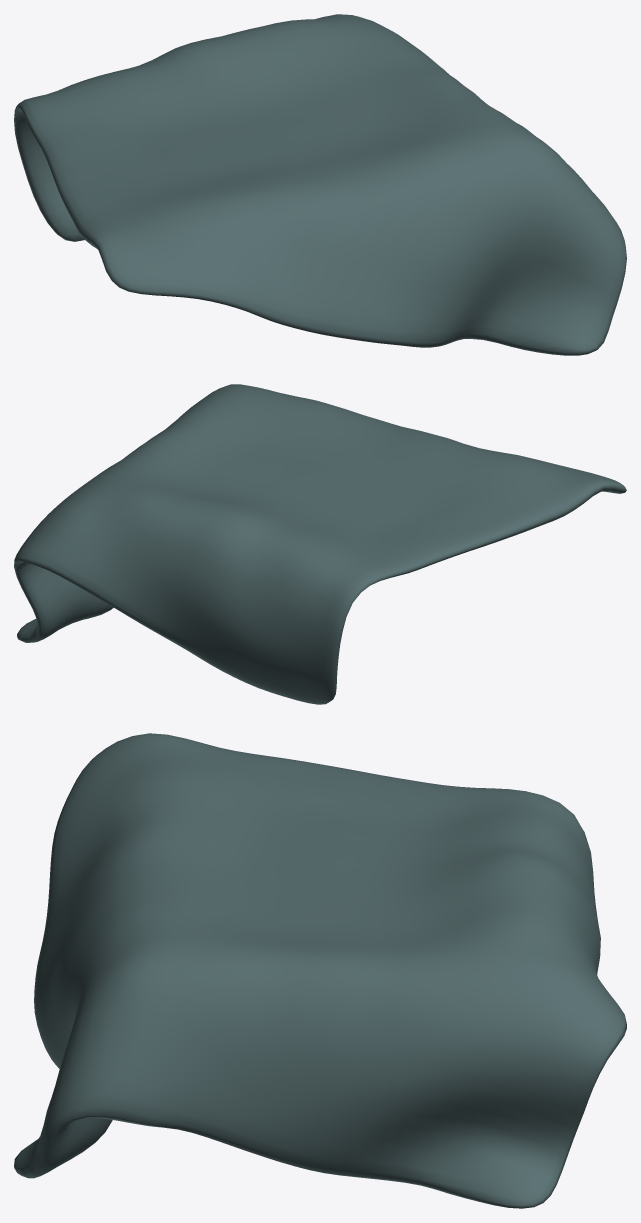
File: blanket.fbx
3 views of the same model, one above another, from view 1: azimuth 30°, elevation 25°; view 2: azimuth 150°, elevation 25°; view 3: azimuth 270°, elevation 25° (orthographic). The views are drawn at different scales.
Parts seen in each view (by area): view 1: Blanket_low; view 2: Blanket_low; view 3: Blanket_low.
Boxes of the visible parts, <box> form: Blanket_low: <box>14,14,626,355</box>; Blanket_low: <box>14,384,626,704</box>; Blanket_low: <box>14,733,626,1208</box>.
Bounding box in the file's own units: 94.84 × 34.06 × 86.86.
